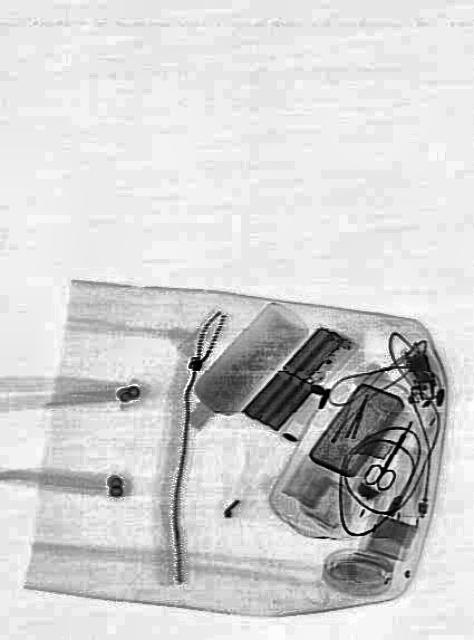Scissors: (362, 409, 422, 495)
